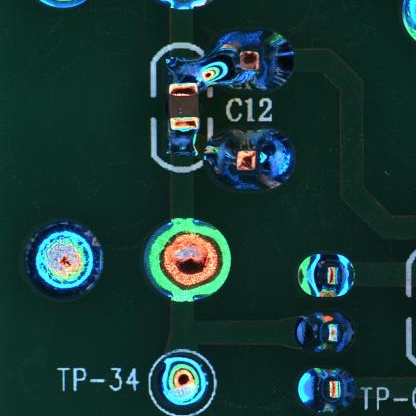spot: (141, 216, 232, 303), (26, 218, 104, 300), (215, 129, 298, 195), (213, 27, 295, 90), (155, 353, 210, 407), (293, 252, 356, 299), (295, 366, 358, 413), (295, 311, 357, 355)
